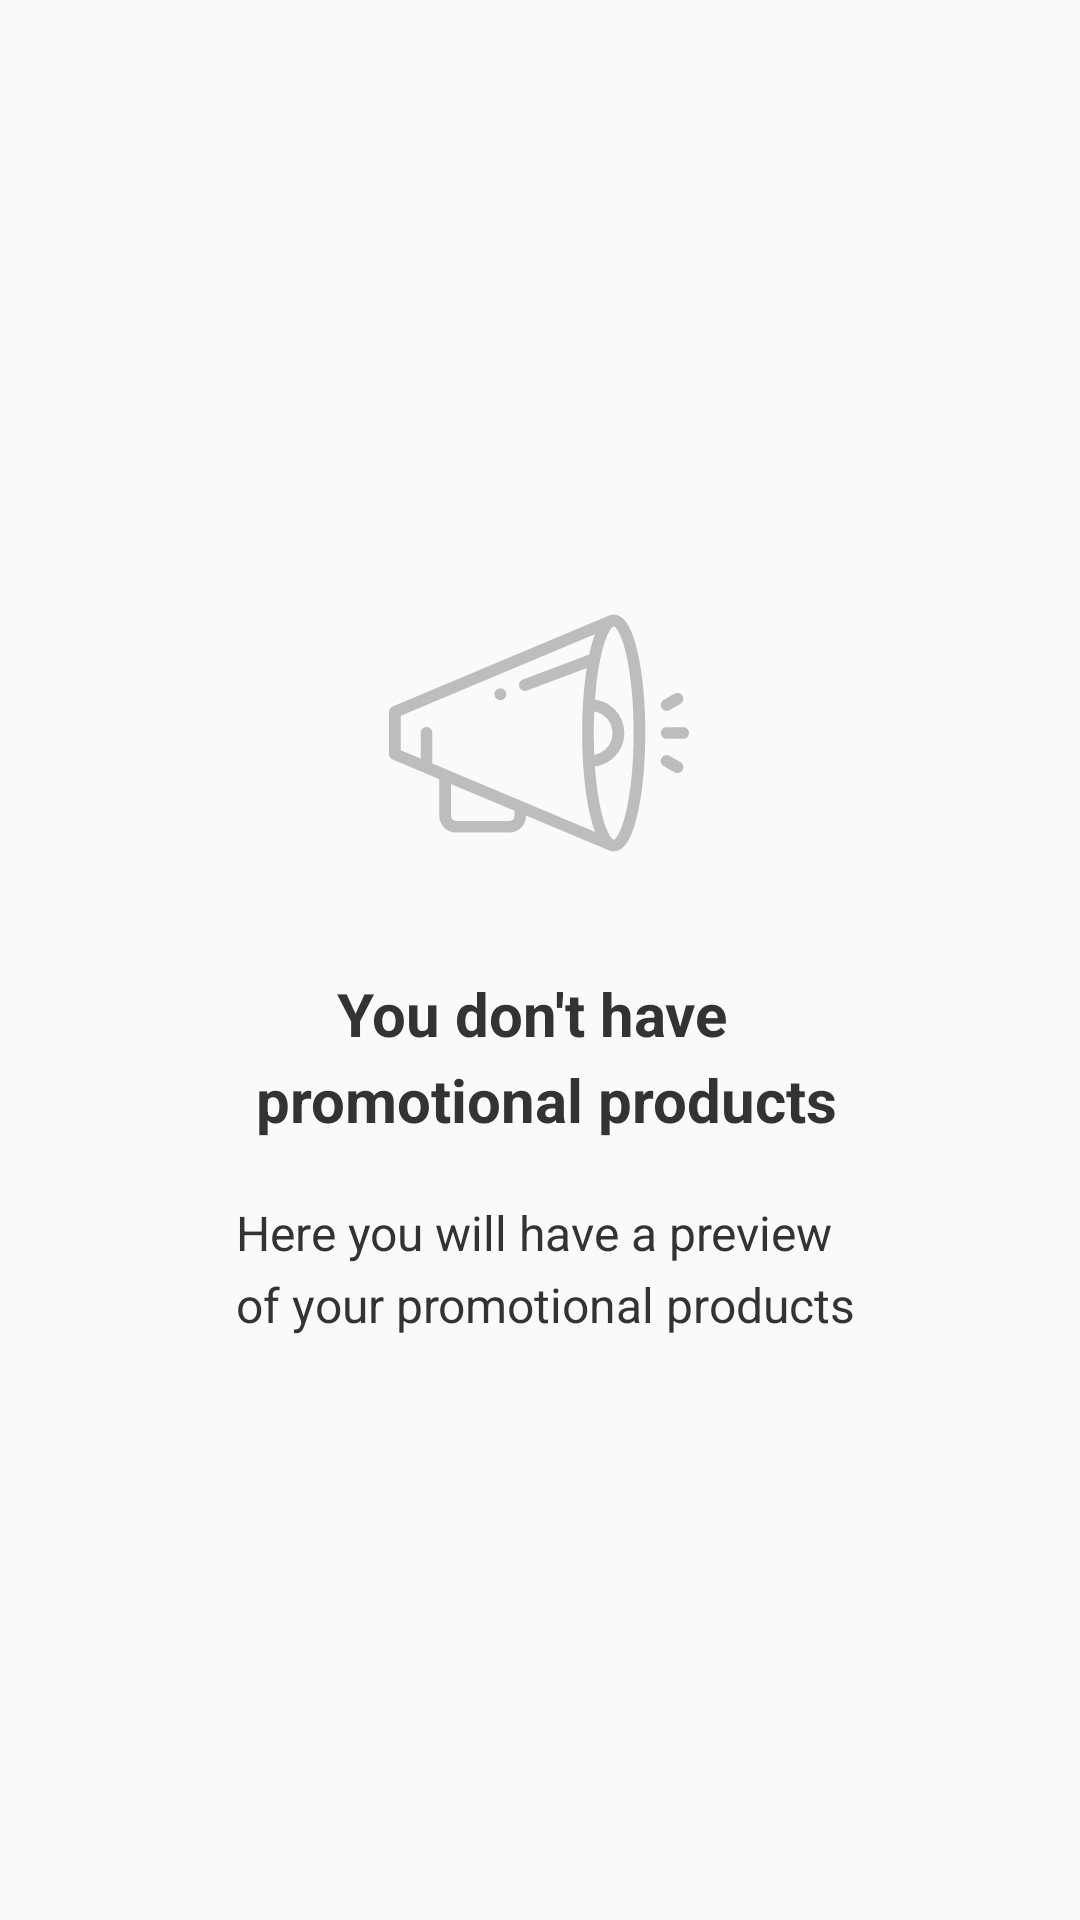

Icons on this 1080*1920 Android screen, each with its box as (x1, y1, x2, y2):
promotion empty: (389, 615, 689, 851)
